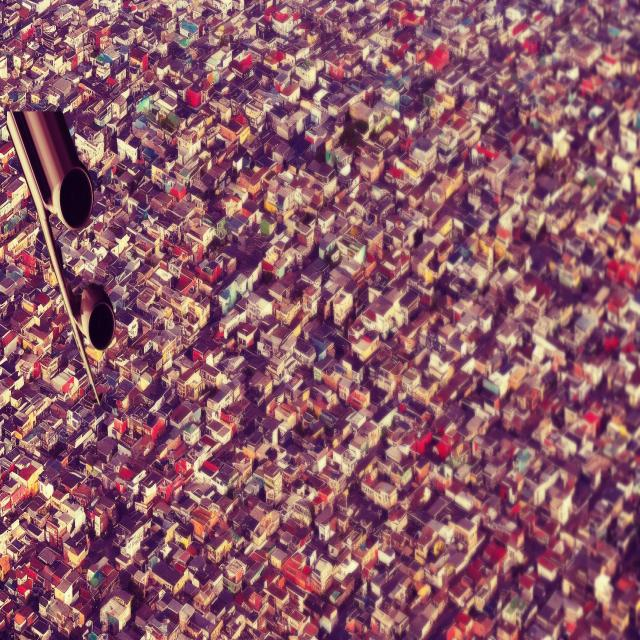airplane: (7, 111, 115, 408)
